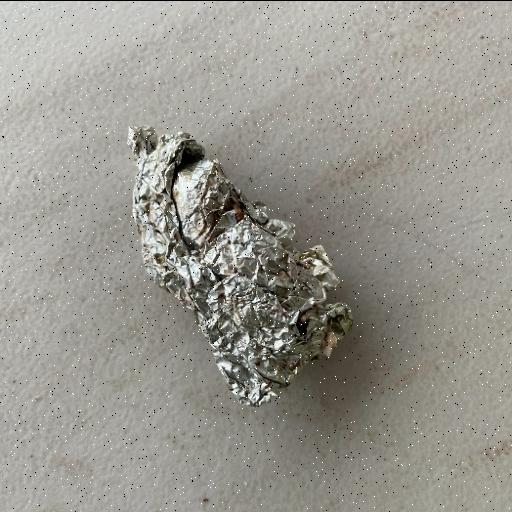Metal: (124, 122, 354, 408)
